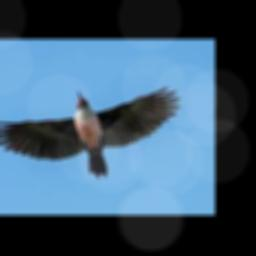Woodpecker: (0, 87, 180, 178)
